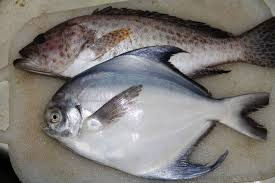Ikan Bawal: (41, 38, 275, 182)
